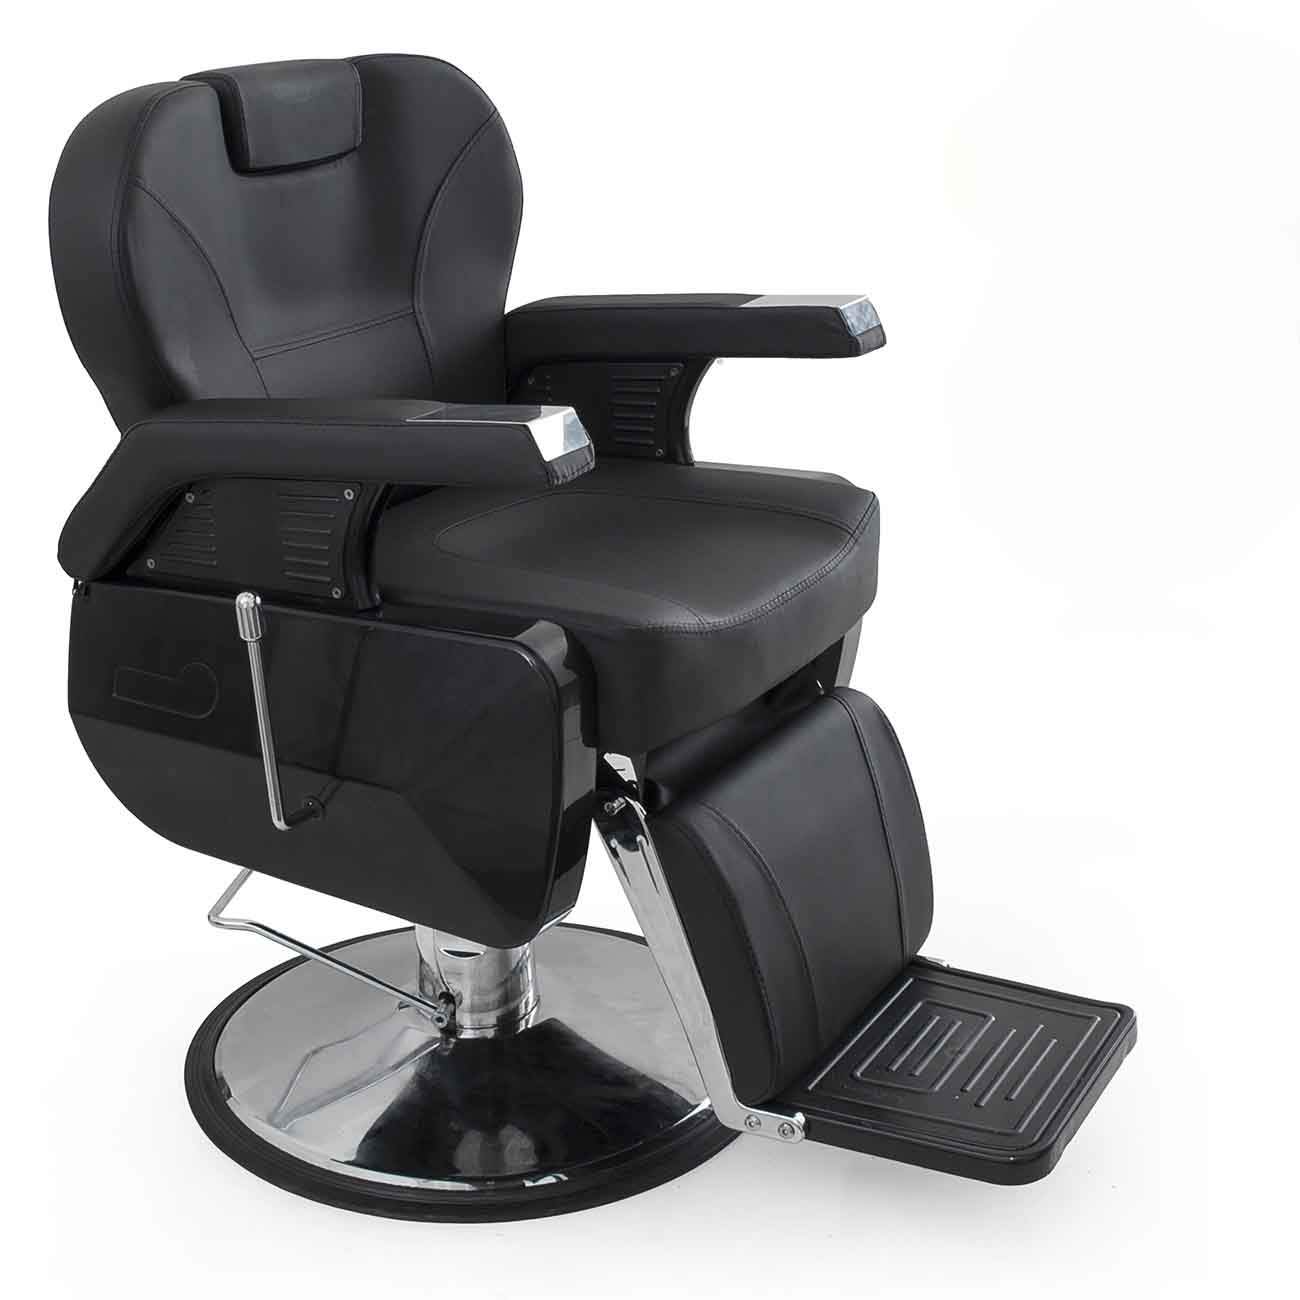chairs: (37, 50, 1140, 1229)
